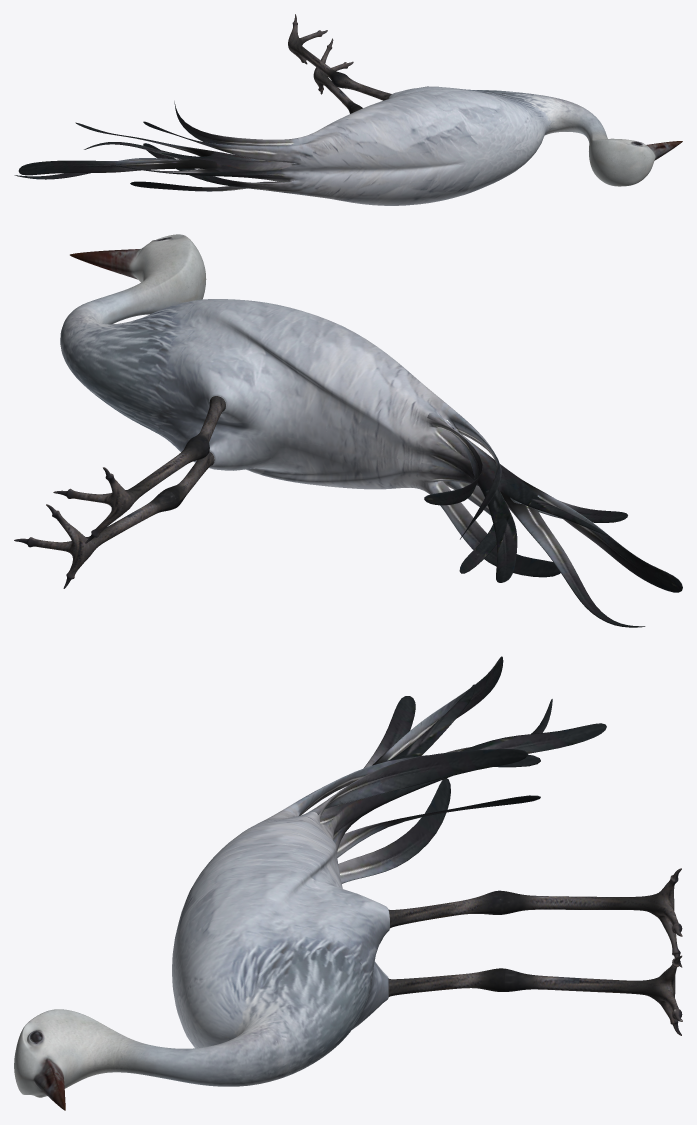
The model's file is 12239_bird_l2.obj.
The picture shows the model from 3 angles, top to bottom: view 1: azimuth 30°, elevation 25°; view 2: azimuth 150°, elevation 25°; view 3: azimuth 270°, elevation 25°; orthographic projection. The views are drawn at different scales.
Visible parts, largest first — view 1: 12239_Bird; view 2: 12239_Bird; view 3: 12239_Bird.
Part boxes in pixels (x1,y1,x2,y2): 12239_Bird: (14, 14, 682, 205); 12239_Bird: (14, 234, 682, 627); 12239_Bird: (14, 656, 682, 1110).
Bounding box in the file's own units: 164 × 28.38 × 105.
Materials: 1 (1 with a texture image).
